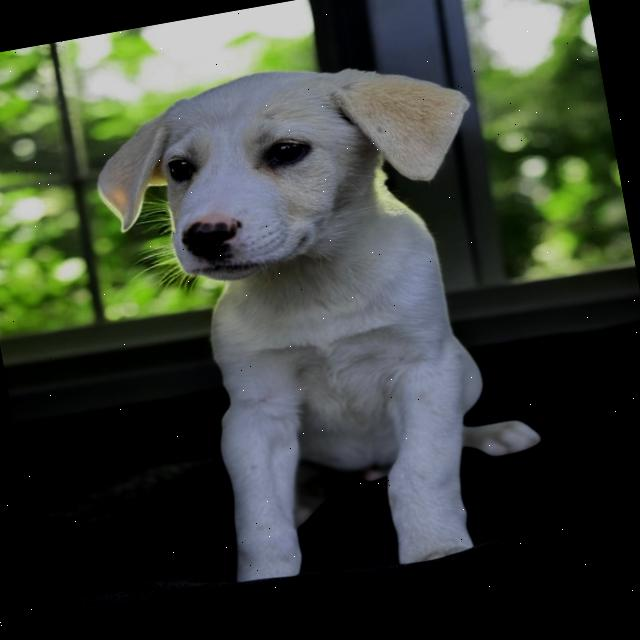labrador_retriever_dog: (65, 25, 504, 316)
